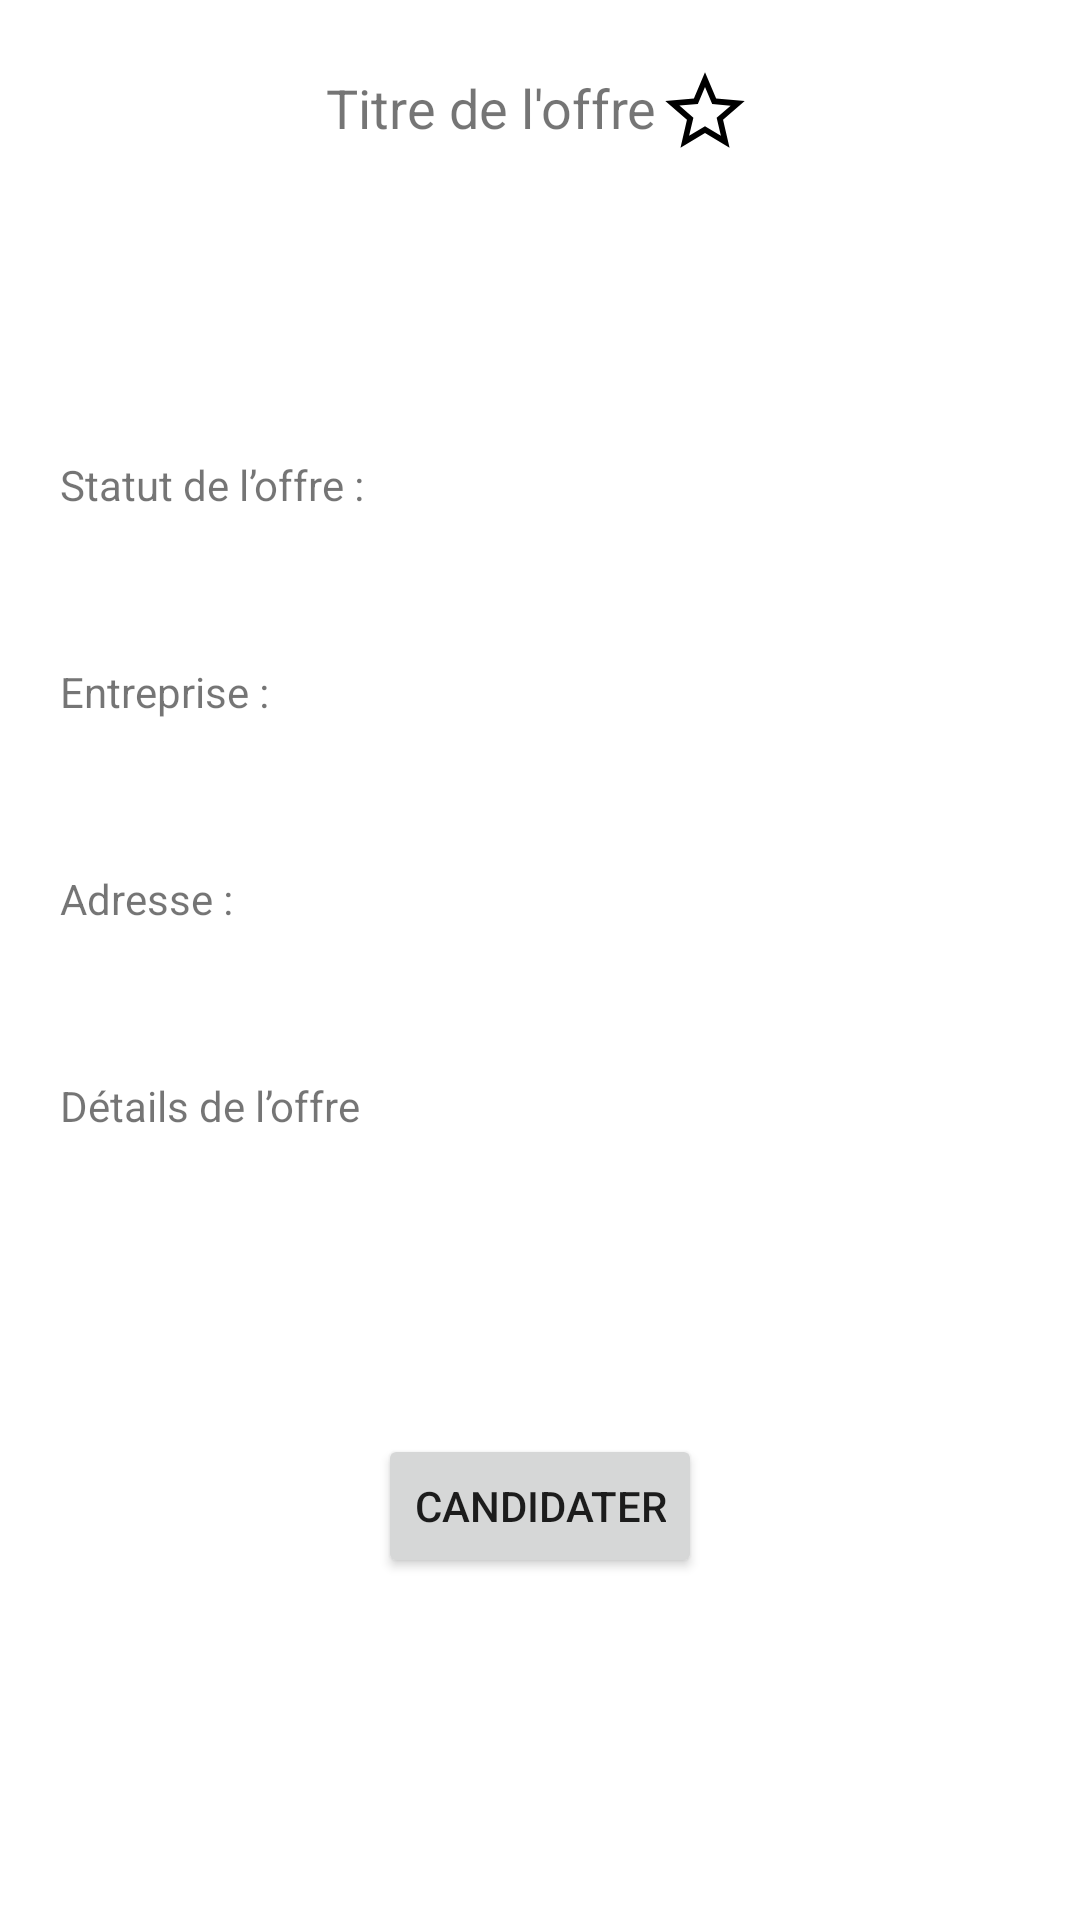

Screen size 1080*1920. Icon name, then its center in pixels as (x,y):
star empty: (705,110)
